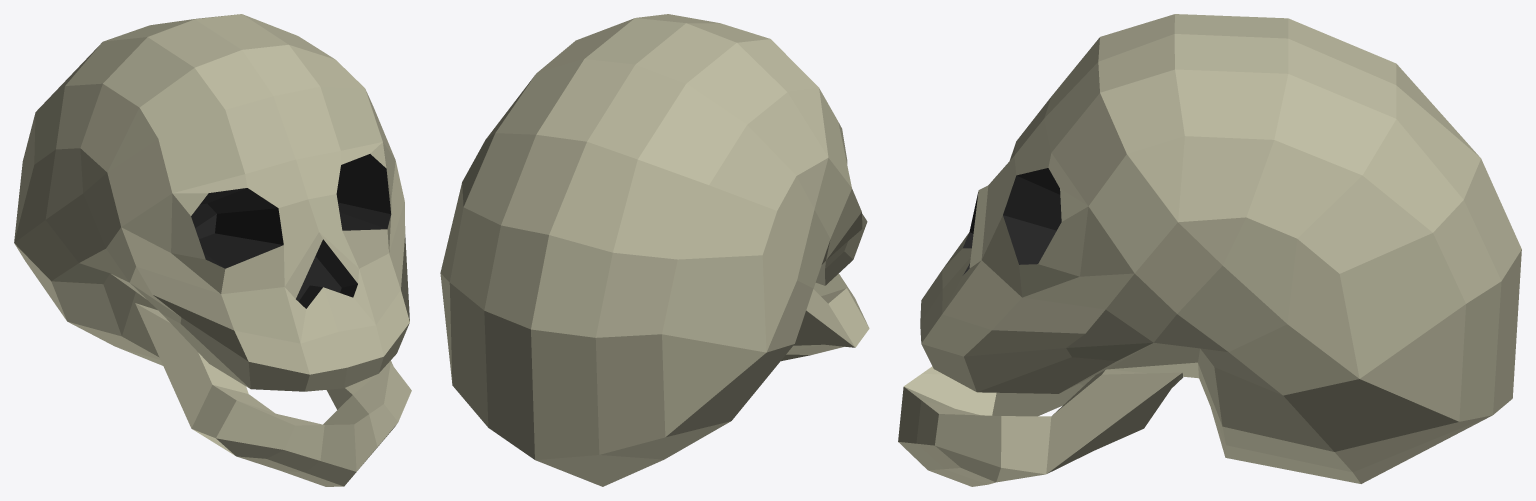
The model's file is skull.fbx.
The picture shows the model from 3 angles, left to right: view 1: azimuth 30°, elevation 25°; view 2: azimuth 150°, elevation 25°; view 3: azimuth 270°, elevation 25°; orthographic projection. The views are drawn at different scales.
Parts seen in each view (by area): view 1: skull; view 2: skull; view 3: skull.
Part boxes in pixels (bbox=[...]): skull: bbox=[14, 14, 411, 486]; skull: bbox=[440, 14, 869, 486]; skull: bbox=[898, 14, 1521, 486].
Size of the model in its own units: 293 by 347 by 433.
